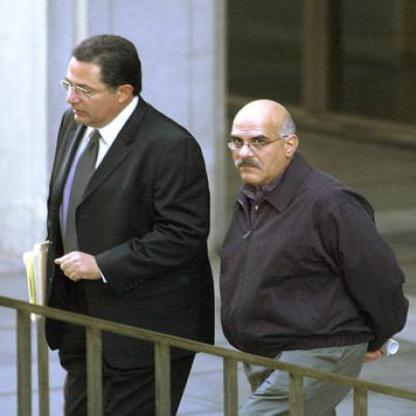face: (65, 43, 123, 129), (228, 105, 288, 187)
